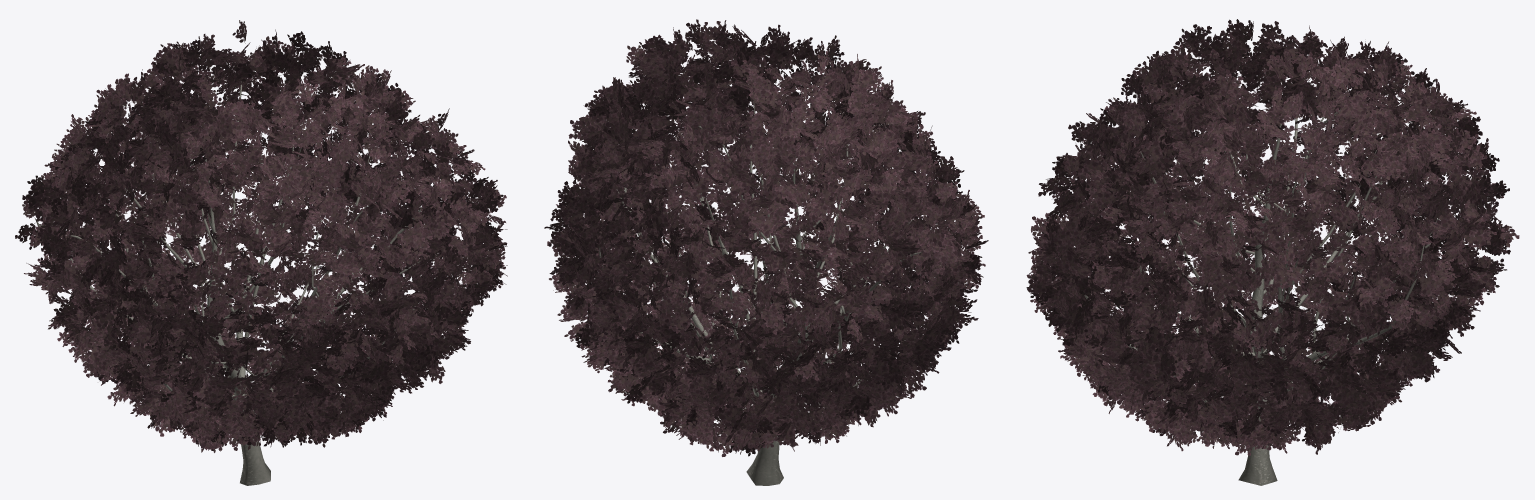
File: hetre.glb
3 renders of one model, left to right at view 1: azimuth 30°, elevation 25°; view 2: azimuth 150°, elevation 25°; view 3: azimuth 270°, elevation 25°, orthographic. The views are drawn at different scales.
Parts seen in each view (by area): view 1: hetre_feuilles, hetre_ecorce; view 2: hetre_feuilles, hetre_ecorce; view 3: hetre_feuilles, hetre_ecorce.
Part boxes in pixels (left/top/right/bottom): hetre_feuilles: left=15, top=20, right=507, bottom=452; hetre_ecorce: left=34, top=81, right=428, bottom=485; hetre_feuilles: left=544, top=19, right=988, bottom=456; hetre_ecorce: left=599, top=101, right=921, bottom=485; hetre_feuilles: left=1026, top=19, right=1519, bottom=455; hetre_ecorce: left=1084, top=98, right=1439, bottom=485.
Bounding box in the file's own units: 17.89 × 17.25 × 18.03.
2 materials, 2 textured.
